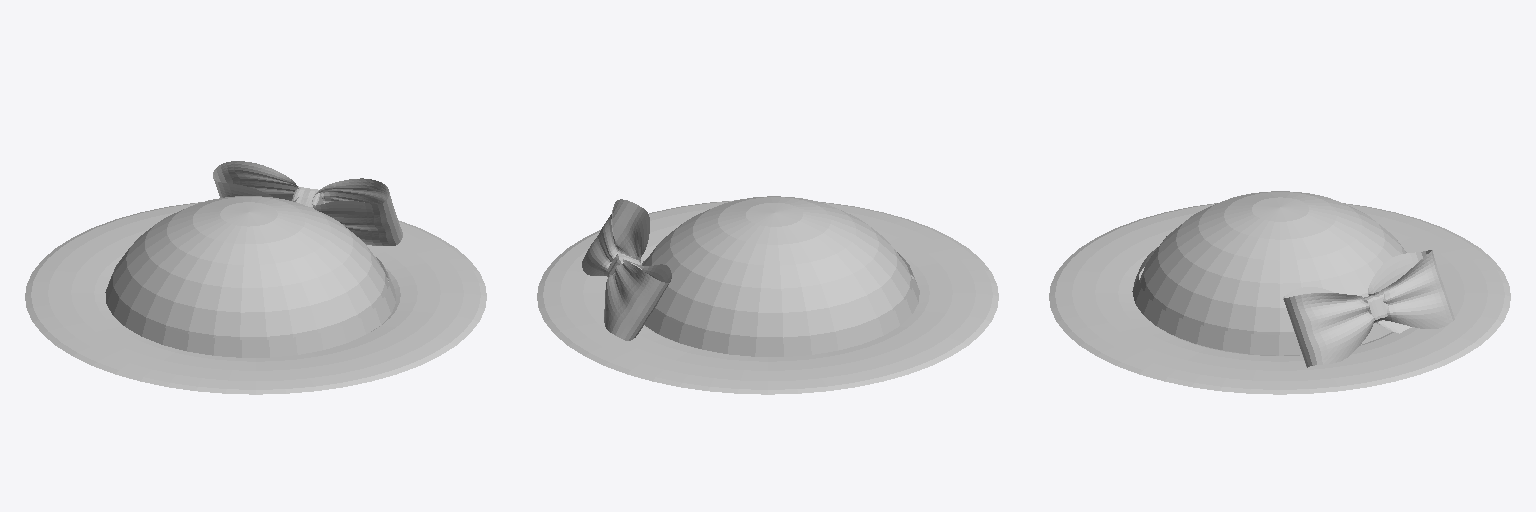
The model's file is koishi_hat.obj.
3 renders of one model, left to right at view 1: azimuth 30°, elevation 25°; view 2: azimuth 150°, elevation 25°; view 3: azimuth 270°, elevation 25°, orthographic.
Parts seen in each view (by area): view 1: ring, hat, bowtie, ribbon; view 2: ring, hat, bowtie, ribbon; view 3: ring, hat, bowtie, ribbon.
Part boxes in pixels (bbox=[...]): ring: bbox=[25, 202, 486, 394]; hat: bbox=[112, 196, 388, 339]; bowtie: bbox=[213, 161, 402, 245]; ribbon: bbox=[105, 257, 395, 357]; ring: bbox=[537, 200, 998, 394]; hat: bbox=[643, 196, 912, 338]; bowtie: bbox=[582, 199, 671, 340]; ribbon: bbox=[642, 252, 919, 356]; ring: bbox=[1049, 203, 1510, 394]; hat: bbox=[1140, 191, 1406, 334]; bowtie: bbox=[1283, 250, 1454, 367]; ribbon: bbox=[1132, 247, 1392, 355].
Size of the model in its own units: 2.5 by 0.5394 by 2.5.